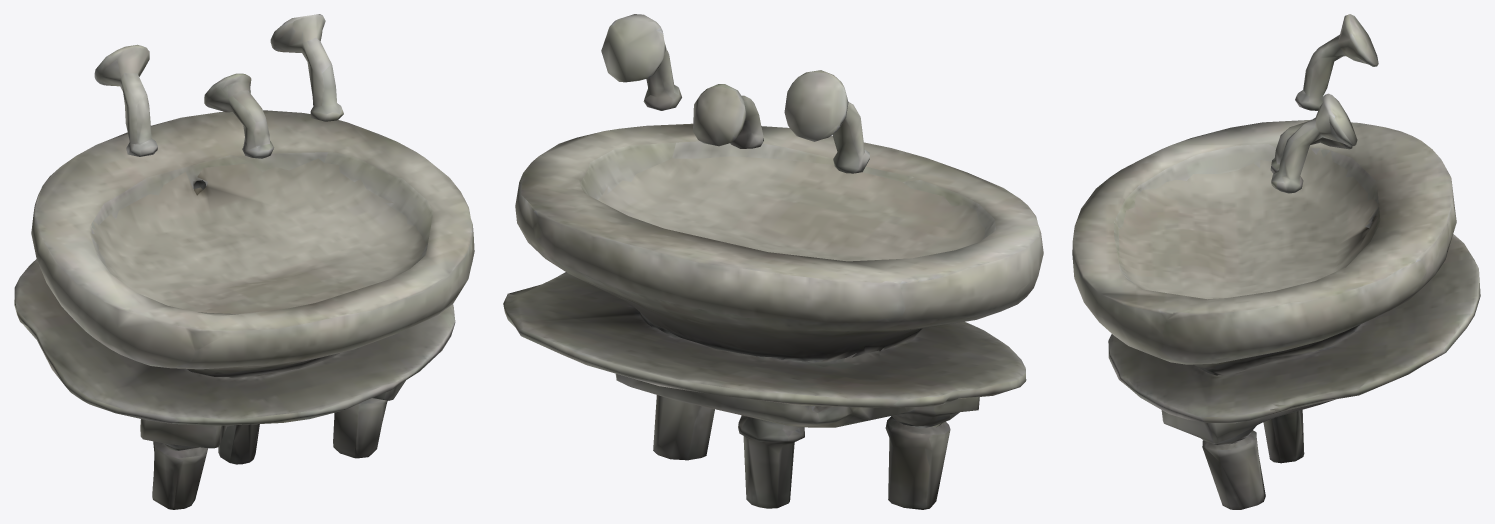
Rendered from old-white-painted-washbasin-v001.glb.
The picture shows the model from 3 angles, left to right: view 1: azimuth 30°, elevation 25°; view 2: azimuth 150°, elevation 25°; view 3: azimuth 270°, elevation 25°; orthographic projection. The views are drawn at different scales.
Visible parts, largest first — view 1: old-white-painted-washbasin; view 2: old-white-painted-washbasin; view 3: old-white-painted-washbasin.
Boxes of the visible parts, <box> form: old-white-painted-washbasin: <box>14,14,474,509</box>; old-white-painted-washbasin: <box>503,14,1043,509</box>; old-white-painted-washbasin: <box>1072,14,1480,509</box>.
Size of the model in its own units: 0.9158 by 0.9167 by 0.8412.
1 material, 1 textured.
